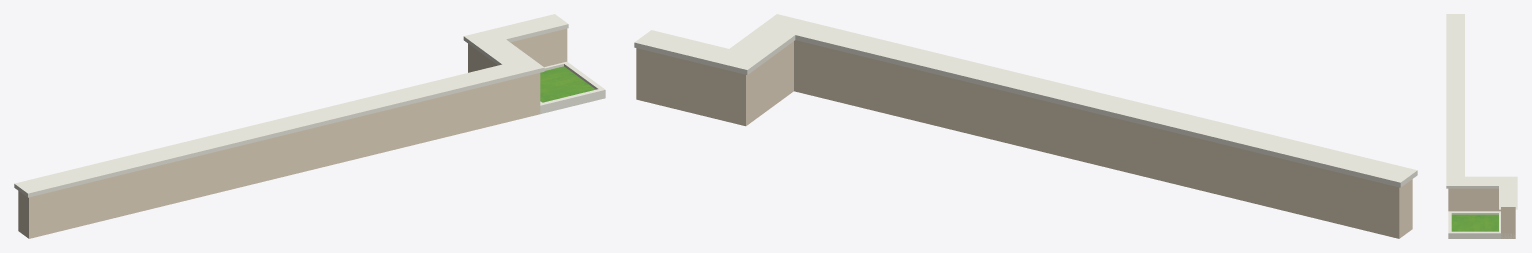
Rendered from fbx_school_fence1.fbx.
3 views of the same model, side by side, from view 1: azimuth 30°, elevation 25°; view 2: azimuth 150°, elevation 25°; view 3: azimuth 270°, elevation 25° (orthographic). The views are drawn at different scales.
Visible parts, largest first — view 1: fbx_school_fence1; view 2: fbx_school_fence1; view 3: fbx_school_fence1.
Boxes of the visible parts, x1,y1,x2,y2 form: fbx_school_fence1: [14, 14, 605, 238]; fbx_school_fence1: [634, 14, 1417, 238]; fbx_school_fence1: [1446, 14, 1517, 238].
Bounding box in the file's own units: 24.22 × 1.88 × 3.79.
2 materials, 2 textured.
